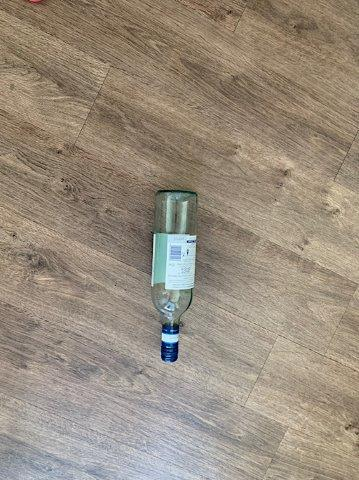botolkaca: (151, 190, 196, 363)
